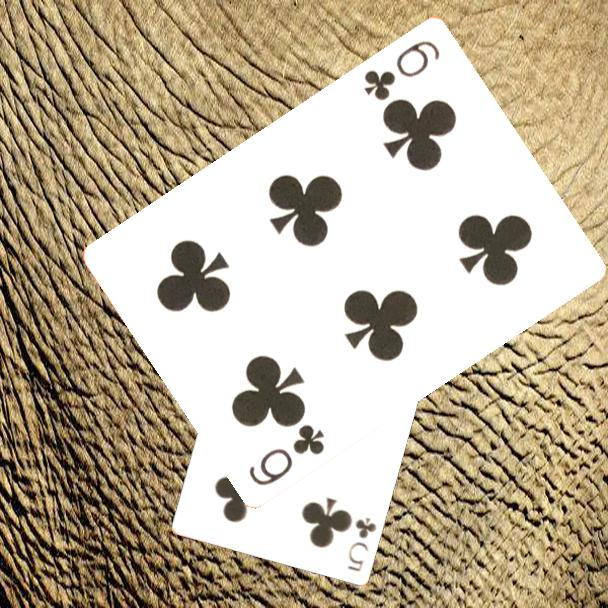c05: (344, 513, 379, 574)
c06: (245, 419, 328, 488), (360, 36, 443, 104)
